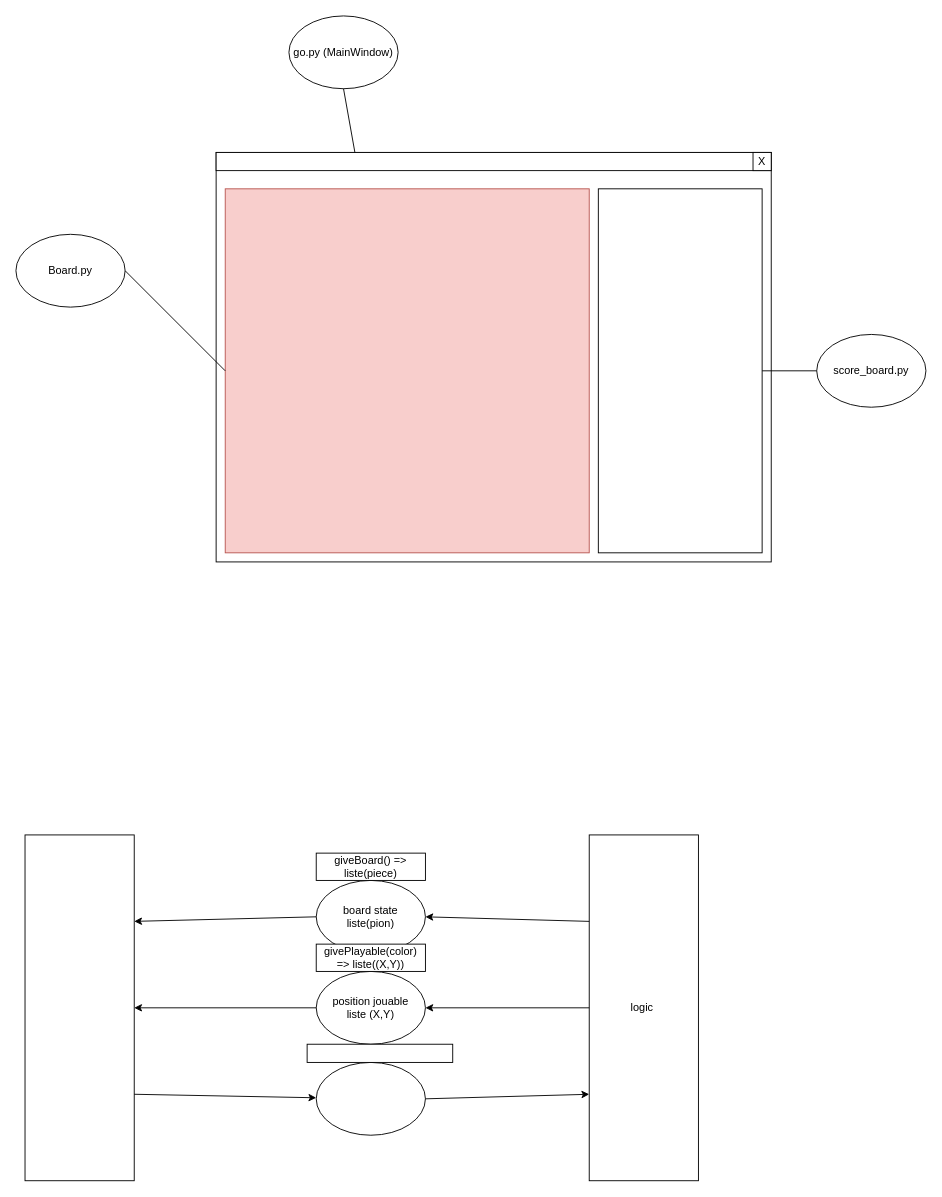
Image size: 942x1197. Some labels were removed from this diagram. Here are the shapes that lost their labels. From the top down, the box of each, then its label:
(597, 188, 762, 553): SCORE
(24, 834, 134, 1181): board mettre en valuer les position jouable crée l'affichage logic tour
(306, 1043, 453, 1062): giveNewPiece((X,Y,color))
(315, 1062, 425, 1135): emplacement nouvelle piece + couleur (X,Y,color)
